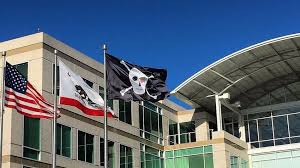Jolly Roger Flag: (103, 51, 175, 102)
